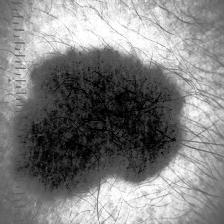Benign Marking or Mole: (15, 47, 183, 194)
